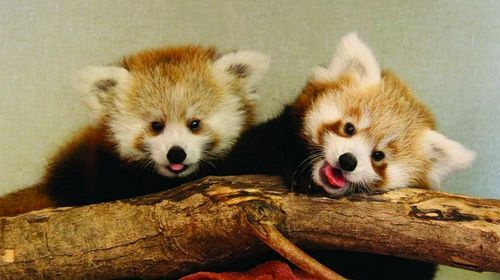red_panda: (272, 35, 475, 217), (33, 46, 261, 206)
